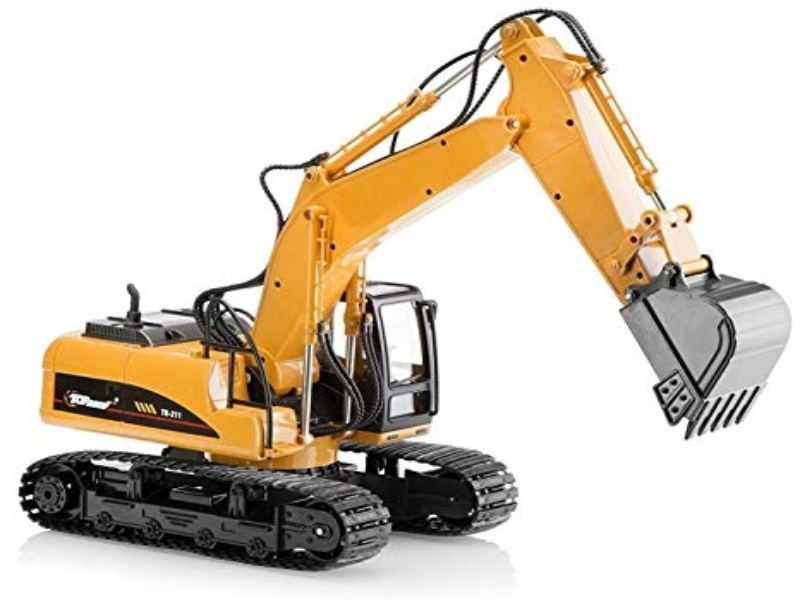wajueji: (39, 7, 795, 573)
